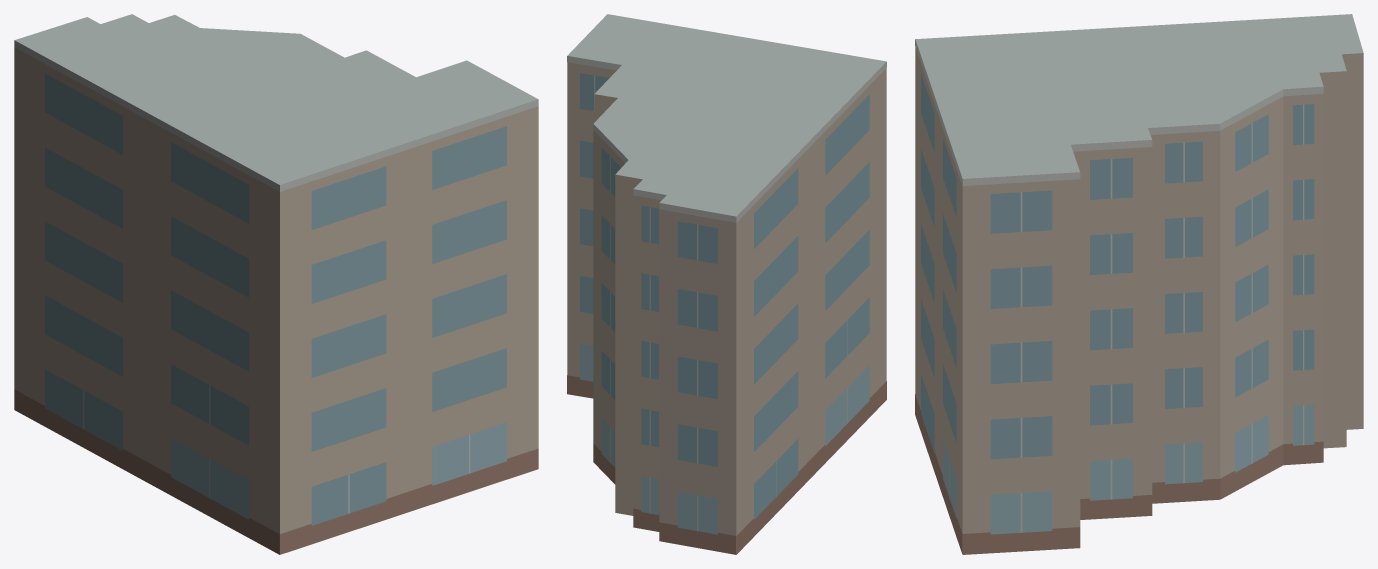
The model's file is survey-upis-32703739.glb.
3 views of the same model, side by side, from view 1: azimuth 30°, elevation 25°; view 2: azimuth 150°, elevation 25°; view 3: azimuth 270°, elevation 25° (orthographic). The views are drawn at different scales.
Parts seen in each view (by area): view 1: survey-upis-32703739.tmp; view 2: survey-upis-32703739.tmp; view 3: survey-upis-32703739.tmp.
Boxes of the visible parts, x1,y1,x2,y2 form: survey-upis-32703739.tmp: (14, 14, 538, 554); survey-upis-32703739.tmp: (567, 14, 886, 554); survey-upis-32703739.tmp: (915, 14, 1363, 554).
Bounding box in the file's own units: 12.25 × 13 × 14.06.
